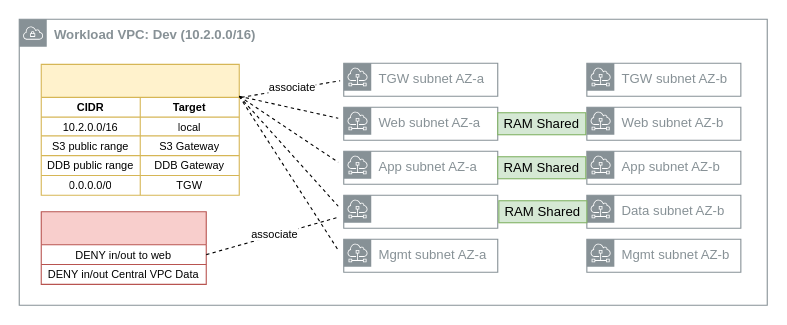
The diagram is 787 pixels wide and 325 high, and some of its shapes have lost their labels. The box of each missing label's shape, as (x1, y1, x2, y2) in pixels:
Common VPC RT: (40, 63, 239, 195)
Data subnet AZ-a: (343, 194, 498, 228)
NACL: (40, 211, 206, 284)
